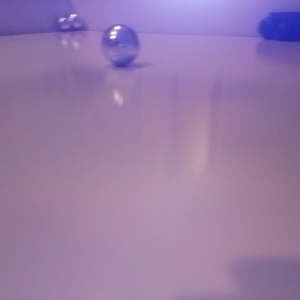alive_ball: (100, 23, 140, 65), (67, 13, 83, 29), (57, 16, 70, 31)
dead_ball: (258, 15, 280, 40), (272, 21, 291, 40)
